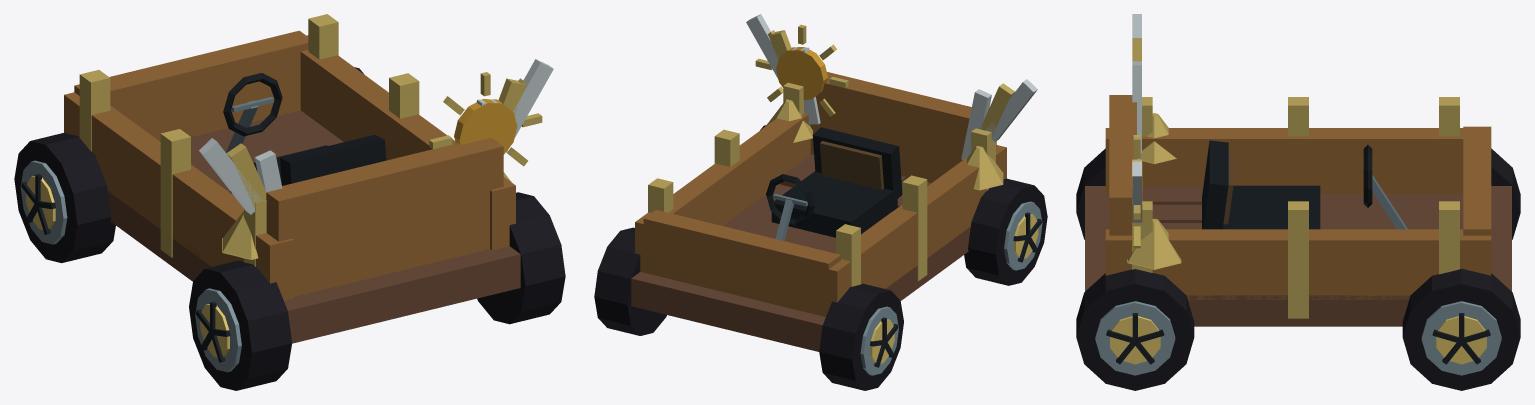
File: kart.glb
3 views of the same model, side by side, from view 1: azimuth 30°, elevation 25°; view 2: azimuth 150°, elevation 25°; view 3: azimuth 270°, elevation 25° (orthographic). The views are drawn at different scales.
Visible parts, largest first — view 1: identity-wagon-wagon-timber-coach, wheel-rear-left, wheel-front-left, wheel-rear-right, identity-wagon-driver-cockpit, identity-wagon-motif-feathers, identity-wagon-motif-sun, identity-wagon-motif-gems; view 2: identity-wagon-wagon-timber-coach, identity-wagon-driver-cockpit, wheel-front-left, wheel-rear-left, wheel-front-right, identity-wagon-motif-feathers, identity-wagon-motif-sun, identity-wagon-motif-gems; view 3: identity-wagon-wagon-timber-coach, wheel-front-right, wheel-rear-right, identity-wagon-driver-cockpit, identity-wagon-motif-gems, identity-wagon-motif-feathers, wheel-front-left, wheel-rear-left, identity-wagon-motif-sun.
Boxes of the visible parts, box(x1,y1,x2,y2) form: identity-wagon-wagon-timber-coach: box(64, 14, 520, 343); wheel-rear-left: box(189, 260, 292, 390); wheel-front-left: box(14, 133, 115, 263); wheel-rear-right: box(477, 192, 565, 324); identity-wagon-driver-cockpit: box(223, 73, 386, 193); identity-wagon-motif-feathers: box(199, 59, 553, 214); identity-wagon-motif-sun: box(429, 72, 542, 166); identity-wagon-motif-gems: box(222, 172, 511, 259); identity-wagon-wagon-timber-coach: box(631, 72, 1006, 351); identity-wagon-driver-cockpit: box(766, 127, 902, 240); wheel-front-left: box(819, 283, 903, 390); wheel-rear-left: box(964, 178, 1047, 285); wheel-front-right: box(594, 227, 666, 335); identity-wagon-motif-feathers: box(746, 14, 1037, 159); identity-wagon-motif-sun: box(755, 24, 848, 116); identity-wagon-motif-gems: box(765, 99, 1003, 190); identity-wagon-wagon-timber-coach: box(1085, 95, 1511, 326); wheel-front-right: box(1402, 268, 1520, 390); wheel-rear-right: box(1076, 269, 1194, 390); identity-wagon-driver-cockpit: box(1202, 140, 1407, 229); identity-wagon-motif-gems: box(1127, 113, 1181, 269); identity-wagon-motif-feathers: box(1132, 14, 1141, 222); wheel-front-left: box(1491, 148, 1520, 239); wheel-rear-left: box(1076, 148, 1105, 239); identity-wagon-motif-sun: box(1132, 135, 1142, 248).
Size of the model in its own units: 2.18 by 1.47 by 2.56.
